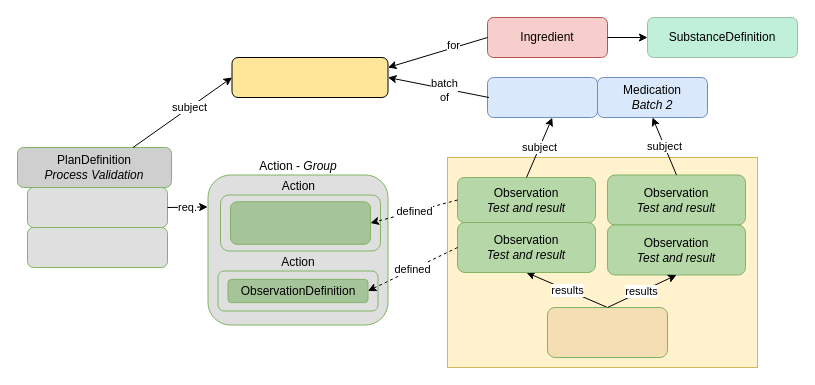
Image size: 815x385. Some labels were removed from this diagram. Here are the shapes that lost their labels. From the top down, the centre of each, then its label:
At (x=309, y=77): "MedicinalProductDefintion Stelbat Tablets, 20mg".
At (x=542, y=97): "Medication Batch 1".
At (x=97, y=207): "Action Process Step #1".
At (x=300, y=222): "ObservationDefinition Test and qualified value".
At (x=97, y=247): "Action Step #2 ...".
At (x=607, y=332): "DiagnosticReport List of values and conclusion".
